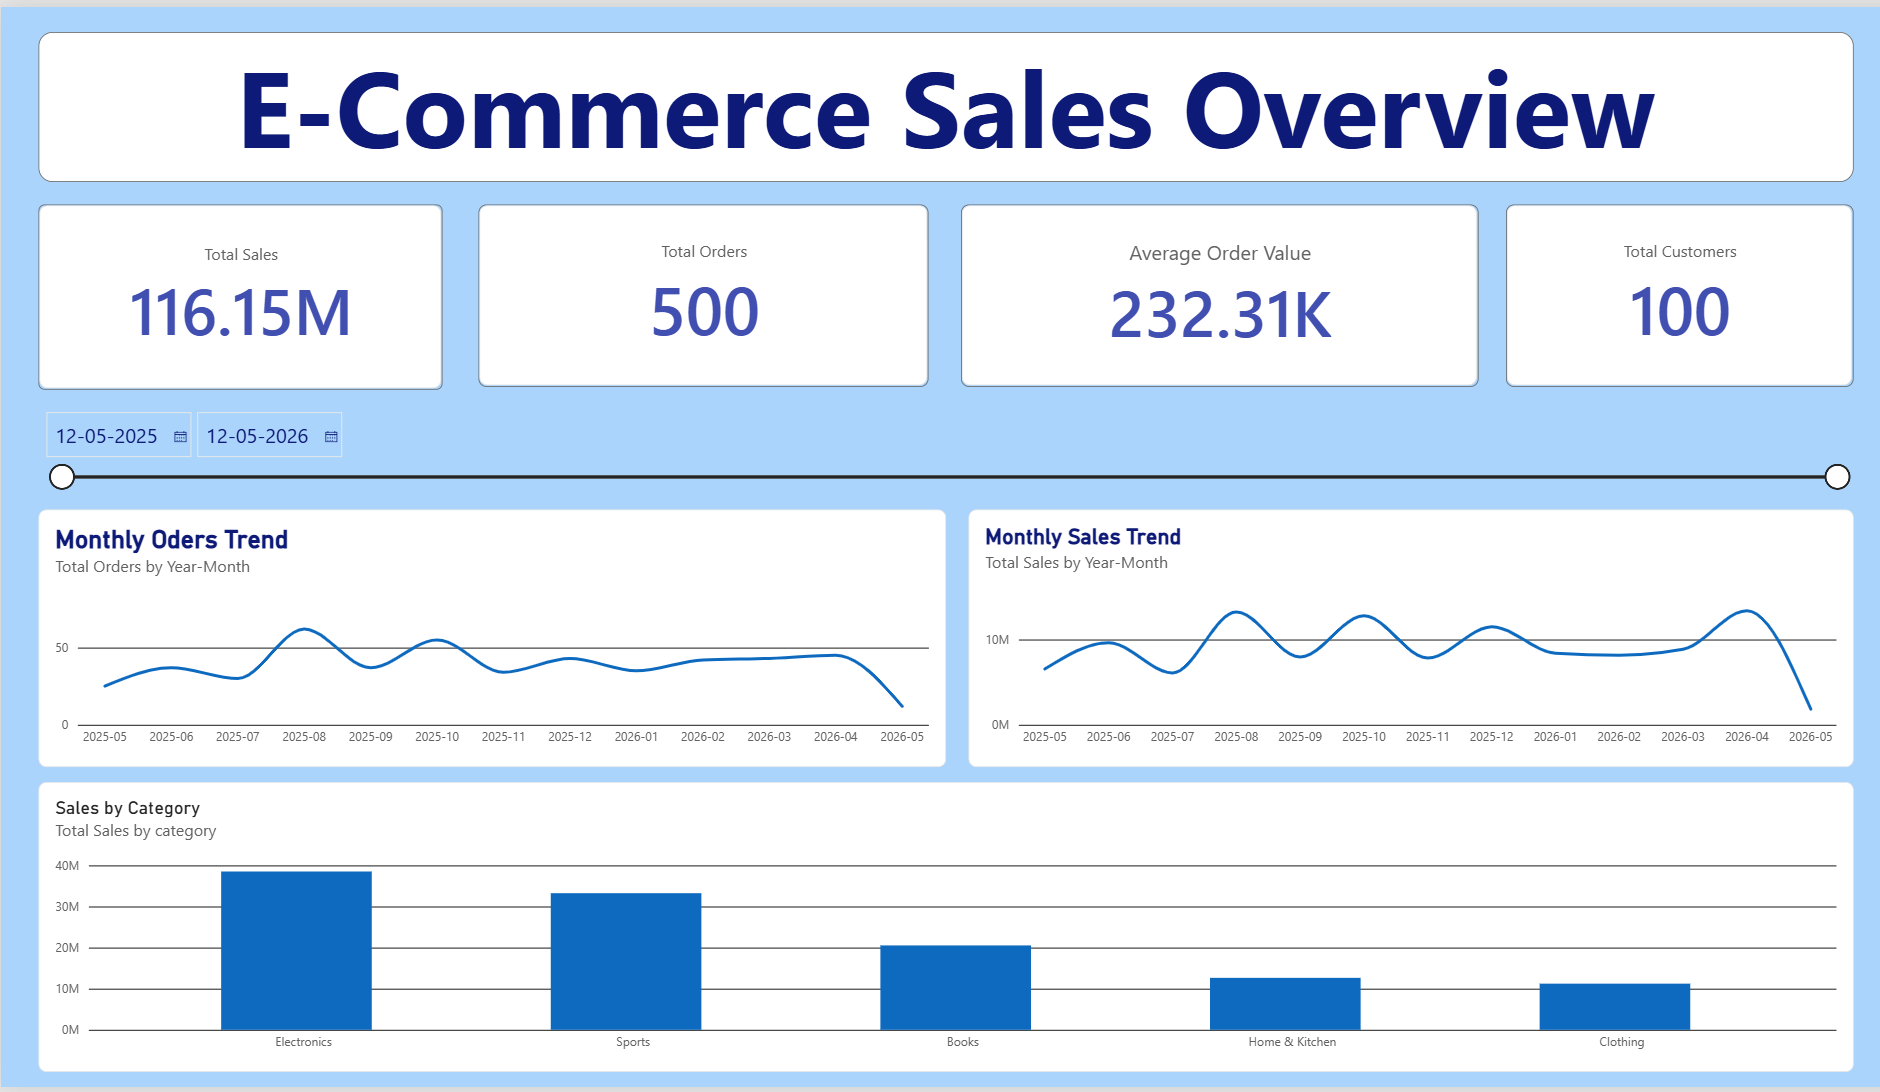

This screenshot's page, from the dashboard's own definition file:
{"tool":"powerbi","page":{"name":"Sales Overview","canvas":[1920,1080],"ordinal":0},"visuals":[{"type":"cardVisual","fields":{"Data":["Table.Total Sales"]},"box":[38,198,404,185],"z":0},{"type":"cardVisual","fields":{"Data":["Table.Total Orders"]},"box":[477.5,197.5,450,182.5],"z":1000},{"type":"cardVisual","fields":{"Data":["Table.Total Customers"]},"box":[1505,197.5,347.5,182.5],"z":2000},{"type":"cardVisual","fields":{"Data":["Table.Average Order Value"]},"box":[960,197.5,517.5,182.5],"z":3000},{"type":"lineChart","title":"Monthly Sales Trend","fields":{"Category":["DateTable.Year-Month"],"Y":["Table.Total Sales"]},"box":[967.5,502.5,885,257.5],"z":4000},{"type":"slicer","fields":{"Values":["DateTable.Date"]},"box":[37.5,400,1815,85],"z":5000},{"type":"clusteredColumnChart","title":"Sales by Category","fields":{"Category":["products.category"],"Y":["Table.Total Sales"]},"box":[37.5,775,1815,290],"z":6000},{"type":"lineChart","title":"Monthly Oders Trend","fields":{"Category":["DateTable.Year-Month"],"Y":["Table.Total Orders"]},"box":[37.5,502.5,907.5,257.5],"z":7000},{"type":"textbox","box":[37.5,25,1815,150],"z":8000}]}

Visuals, with their boxes on the page's 1920x1080 design canvas (x1, y1, x2, y2). These are canvas units, not pixel positions in the 1880x1092 screenshot, which may show the page scaled, cropped or inside an application window:
cardVisual - Table.Total Sales: pyautogui.locateOnScreen(38, 198, 442, 383)
cardVisual - Table.Total Orders: pyautogui.locateOnScreen(478, 198, 928, 380)
cardVisual - Table.Total Customers: pyautogui.locateOnScreen(1505, 198, 1852, 380)
cardVisual - Table.Average Order Value: pyautogui.locateOnScreen(960, 198, 1478, 380)
"Monthly Sales Trend" lineChart: pyautogui.locateOnScreen(968, 502, 1852, 760)
slicer - DateTable.Date: pyautogui.locateOnScreen(38, 400, 1852, 485)
"Sales by Category" clusteredColumnChart: pyautogui.locateOnScreen(38, 775, 1852, 1065)
"Monthly Oders Trend" lineChart: pyautogui.locateOnScreen(38, 502, 945, 760)
textbox: pyautogui.locateOnScreen(38, 25, 1852, 175)
